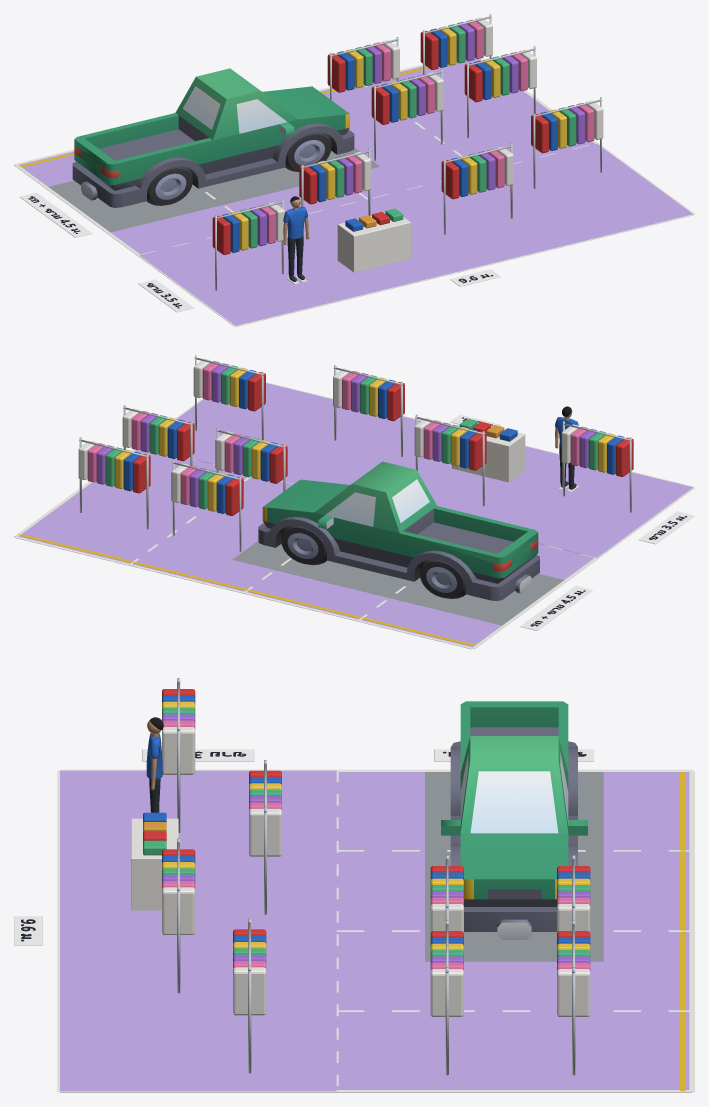
Rendered from lot-boot-4.glb.
The picture shows the model from 3 angles, top to bottom: view 1: azimuth 30°, elevation 25°; view 2: azimuth 150°, elevation 25°; view 3: azimuth 270°, elevation 25°; orthographic projection. The views are drawn at different scales.
Parts seen in each view (by area): view 1: Cube, body, Cube.056, Cube.057, Cube.093, wheel-back-right, wheel-front-right, Cube.123, Cube.001, Cube.002, Cube.122, Cube.105 (+8 smaller); view 2: Cube, Cube.056, body, Cube.057, Cube.093, wheel-back-left, wheel-front-left, Cube.055, Cube.004, Cube.123, Cube.002, Cube.122 (+8 smaller); view 3: Cube, Cube.056, body, Cube.057, Cube.093, Cube.055, Cube.004, Cube.003, Cube.118, Cube.078, Cube.085, Cube.111 (+8 smaller).
Boxes of the visible parts, left/top/right/bottom form: Cube: left=140, top=143, right=692, bottom=325; body: left=72, top=68, right=354, bottom=207; Cube.056: left=19, top=58, right=594, bottom=254; Cube.057: left=49, top=148, right=379, bottom=232; Cube.093: left=337, top=213, right=410, bottom=272; wheel-back-right: left=147, top=166, right=192, bottom=205; wheel-front-right: left=285, top=132, right=331, bottom=171; Cube.123: left=20, top=192, right=92, bottom=237; Cube.001: left=236, top=214, right=693, bottom=326; Cube.002: left=14, top=164, right=235, bottom=326; Cube.122: left=138, top=279, right=193, bottom=312; Cube.105: left=441, top=160, right=459, bottom=199; Cube: left=176, top=383, right=692, bottom=557; Cube.056: left=19, top=449, right=593, bottom=647; body: left=258, top=461, right=539, bottom=600; Cube.057: left=232, top=540, right=563, bottom=625; Cube.093: left=452, top=422, right=525, bottom=482; wheel-back-left: left=419, top=559, right=465, bottom=598; wheel-front-left: left=280, top=525, right=326, bottom=565; Cube.055: left=18, top=534, right=475, bottom=646; Cube.004: left=14, top=536, right=472, bottom=649; Cube.123: left=520, top=586, right=592, bottom=630; Cube.002: left=472, top=487, right=694, bottom=648; Cube.122: left=638, top=511, right=694, bottom=544; Cube: left=60, top=770, right=336, bottom=1091; Cube.056: left=336, top=772, right=689, bottom=1089; body: left=441, top=701, right=587, bottom=939; Cube.057: left=425, top=772, right=603, bottom=961; Cube.093: left=131, top=818, right=178, bottom=910; Cube.055: left=679, top=772, right=685, bottom=1091; Cube.004: left=689, top=770, right=694, bottom=1091; Cube.003: left=60, top=1090, right=692, bottom=1092; Cube.118: left=233, top=967, right=266, bottom=1015; Cube.078: left=430, top=969, right=463, bottom=1016; Cube.085: left=557, top=969, right=590, bottom=1016; Cube.111: left=162, top=887, right=195, bottom=934.
Size of the model in its own units: 10.27 by 1.8 by 8.62.
25 materials, 1 textured.
